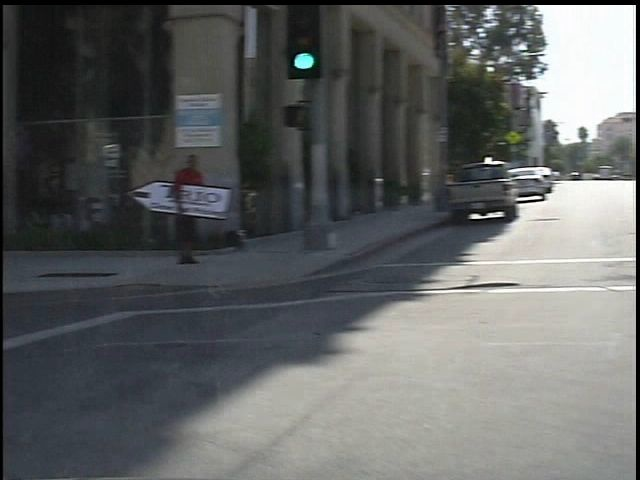person: (159, 151, 201, 273)
